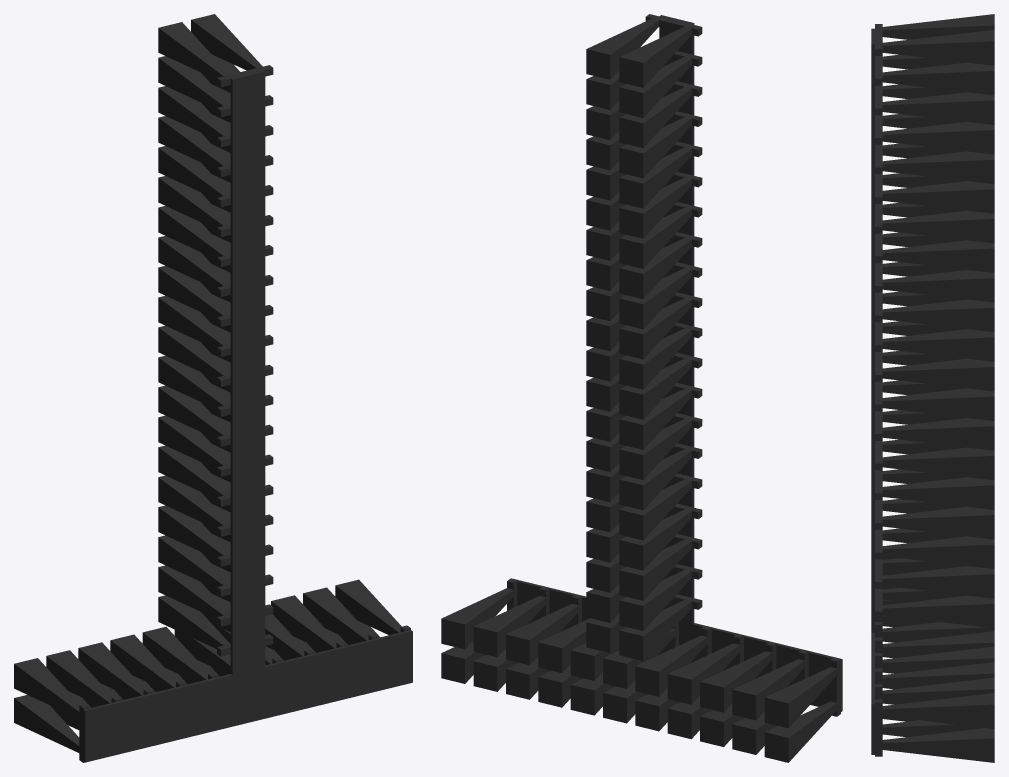
Rendered from pier.obj.
3 views of the same model, side by side, from view 1: azimuth 30°, elevation 25°; view 2: azimuth 150°, elevation 25°; view 3: azimuth 270°, elevation 25° (orthographic).
Visible parts, largest first — view 1: pier_v4; view 2: pier_v4; view 3: pier_v4.
Part boxes in pixels (x1=…): pier_v4: x1=14, y1=14, x2=412, y2=762; pier_v4: x1=441, y1=14, x2=842, y2=762; pier_v4: x1=871, y1=14, x2=994, y2=762.
Bounding box in the file's own units: 52.62 × 96.22 × 16.5.
1 material, 1 textured.
